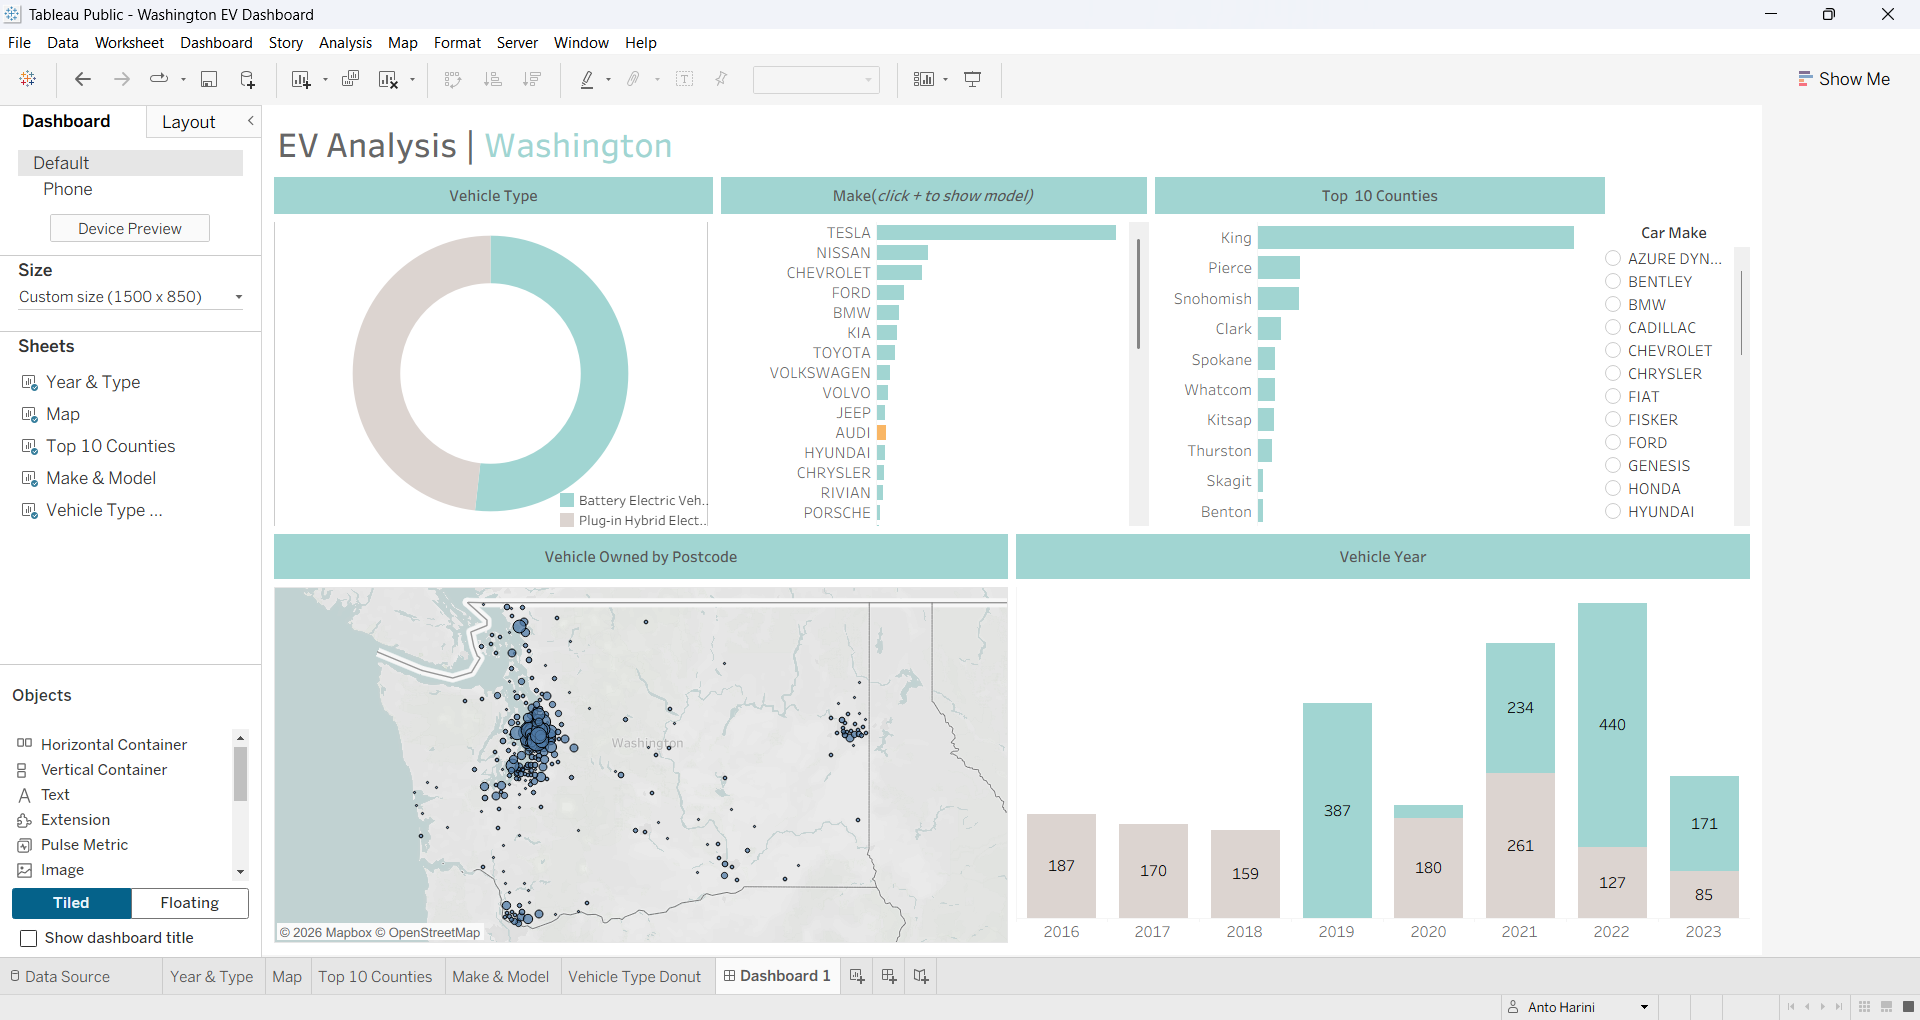

The dashboard page shown, as its layout file describes it:
{"tool":"tableau","page":{"name":"Dashboard 1","canvas":[1000,800],"ordinal":0},"visuals":[{"type":"text","box":[8,17,984,43]},{"type":"text","box":[8,60,413,43]},{"type":"text","box":[421,60,217,43]},{"type":"text","box":[638,60,177,43]},{"type":"worksheet","title":"Vehicle Type Donut","mark":"Pie","rows":["Calculation_0734254896078849","Calculation_0734254896078849"],"box":[8,103,413,327]},{"type":"worksheet","title":"Make & Model","mark":"Automatic","rows":["Make"],"cols":["DOL Vehicle ID"],"box":[421,103,230,327]},{"type":"worksheet","title":"Top 10 Counties","mark":"Automatic","rows":["County"],"cols":["DOL Vehicle ID"],"box":[651,103,188,327]},{"type":"parameter","param":"[Parameters].[Parameter 1]","box":[839,103,153,255]},{"type":"legend","title":"Vehicle Type Donut","param":"[federated.01vu6bk1szwozr1gi2jxj0sryfgd].[none:Electric Vehicle Type:nk]","box":[16,104,399,322]},{"type":"legend","title":"Make & Model","param":"[federated.01vu6bk1szwozr1gi2jxj0sryfgd].[none:Calculation_0734254895112192:nk]","box":[839,358,153,72]},{"type":"text","box":[8,430,492,47]},{"type":"text","box":[500,430,492,47]},{"type":"worksheet","title":"Map","mark":"Automatic","box":[8,477,492,315]},{"type":"worksheet","title":"Year and Type","mark":"Bar","rows":["DOL Vehicle ID"],"cols":["Model Year"],"box":[500,477,492,315]}]}

Visuals, with their boxes on the page's 1000x800 design canvas (x1, y1, x2, y2). These are canvas units, not pixel positions in the 1920x1020 screenshot, which may show the page scaled, cropped or inside an application window:
text: [left=8, top=17, right=992, bottom=60]
text: [left=8, top=60, right=421, bottom=103]
text: [left=421, top=60, right=638, bottom=103]
text: [left=638, top=60, right=815, bottom=103]
"Vehicle Type Donut" worksheet (Pie marks): [left=8, top=103, right=421, bottom=430]
"Make & Model" worksheet: [left=421, top=103, right=651, bottom=430]
"Top 10 Counties" worksheet: [left=651, top=103, right=839, bottom=430]
parameter: [left=839, top=103, right=992, bottom=358]
"Vehicle Type Donut" legend: [left=16, top=104, right=415, bottom=426]
"Make & Model" legend: [left=839, top=358, right=992, bottom=430]
text: [left=8, top=430, right=500, bottom=477]
text: [left=500, top=430, right=992, bottom=477]
"Map" worksheet: [left=8, top=477, right=500, bottom=792]
"Year and Type" worksheet (Bar marks): [left=500, top=477, right=992, bottom=792]
